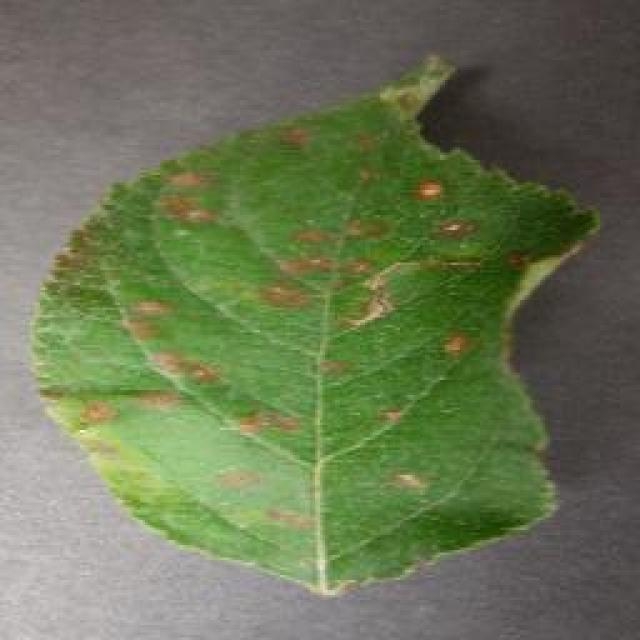apple rust disease: (28, 50, 600, 598)
